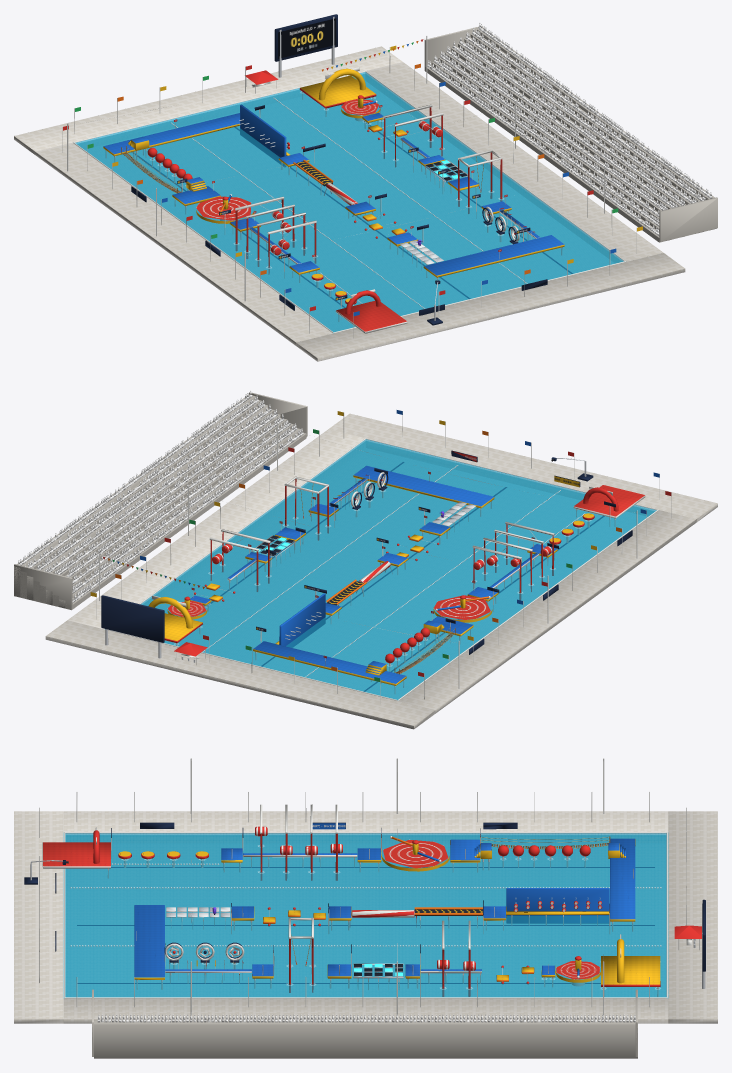
The model's file is course.glb.
The picture shows the model from 3 angles, top to bottom: view 1: azimuth 30°, elevation 25°; view 2: azimuth 150°, elevation 25°; view 3: azimuth 270°, elevation 25°; orthographic projection. The views are drawn at different scales.
Size of the model in its own units: 101 by 13 by 123.
Materials: 86 (59 with a texture image).
